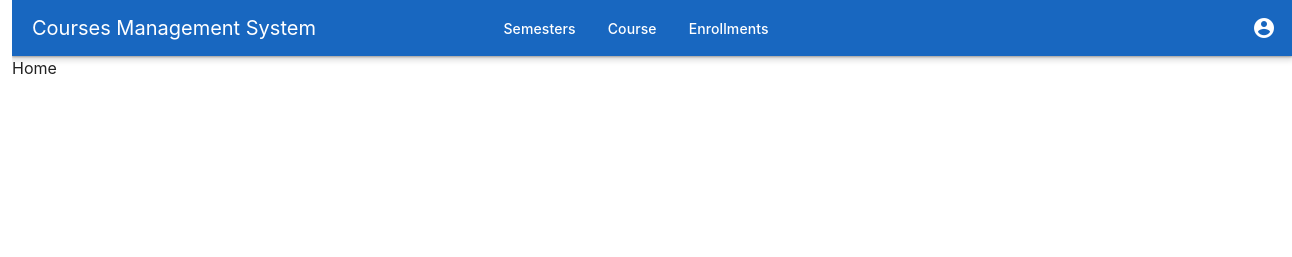
Test case: Feature 2 — Semester Management › US-2.1 — Open the semesters view › Student opens semesters from the menu
Step 1. Click the button "Semesters" → click(540, 28), box [487,10,592,46]
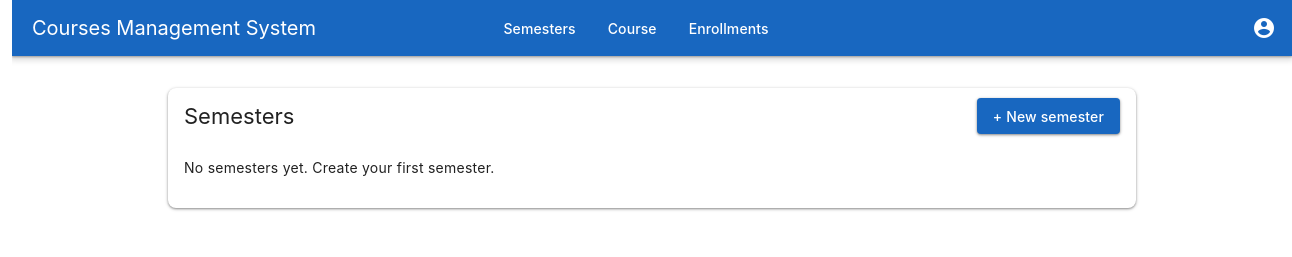
Check: the text "Semesters" is shown, box [503,20,576,36]
Check: the element that starts with "Semesters" is shown, box [152,56,1152,240]
